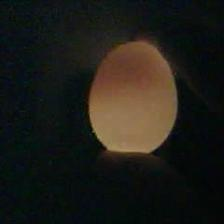infertile: (86, 37, 180, 158)
